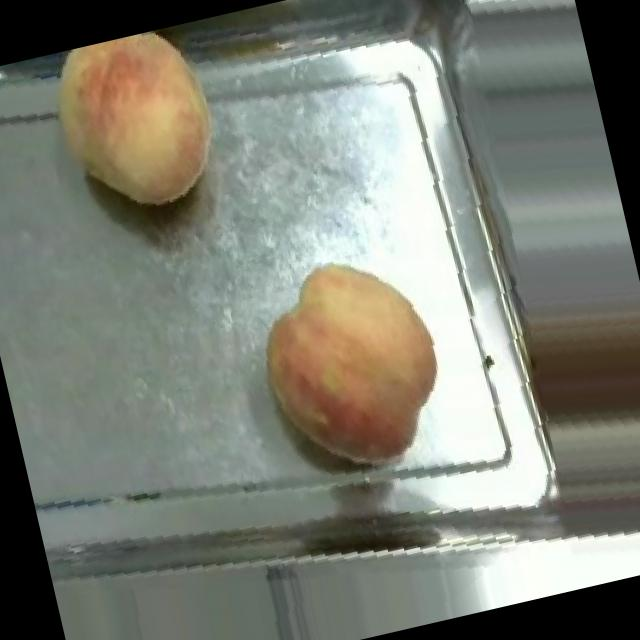Fruit: (232, 236, 470, 494), (24, 19, 243, 239), (506, 262, 640, 531)
